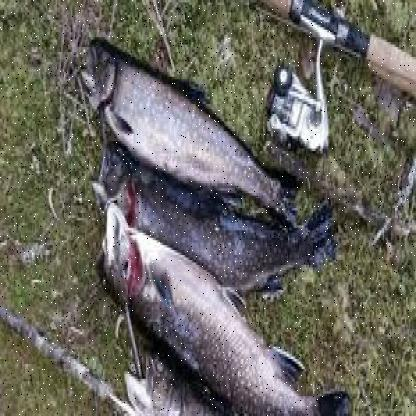fish: (96, 220, 365, 414), (78, 31, 300, 218)
